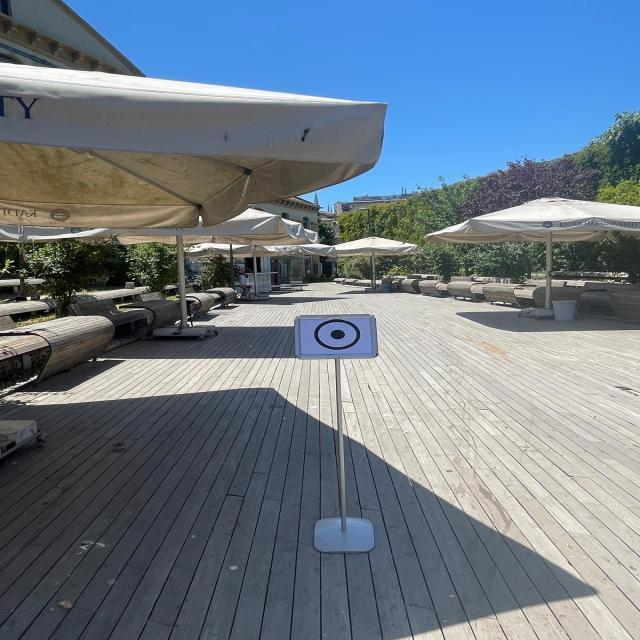Target: (285, 301, 390, 367)
inner: (324, 321, 350, 347)
